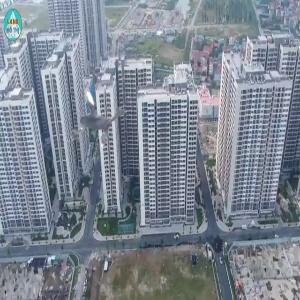drone: (51, 65, 142, 156)
